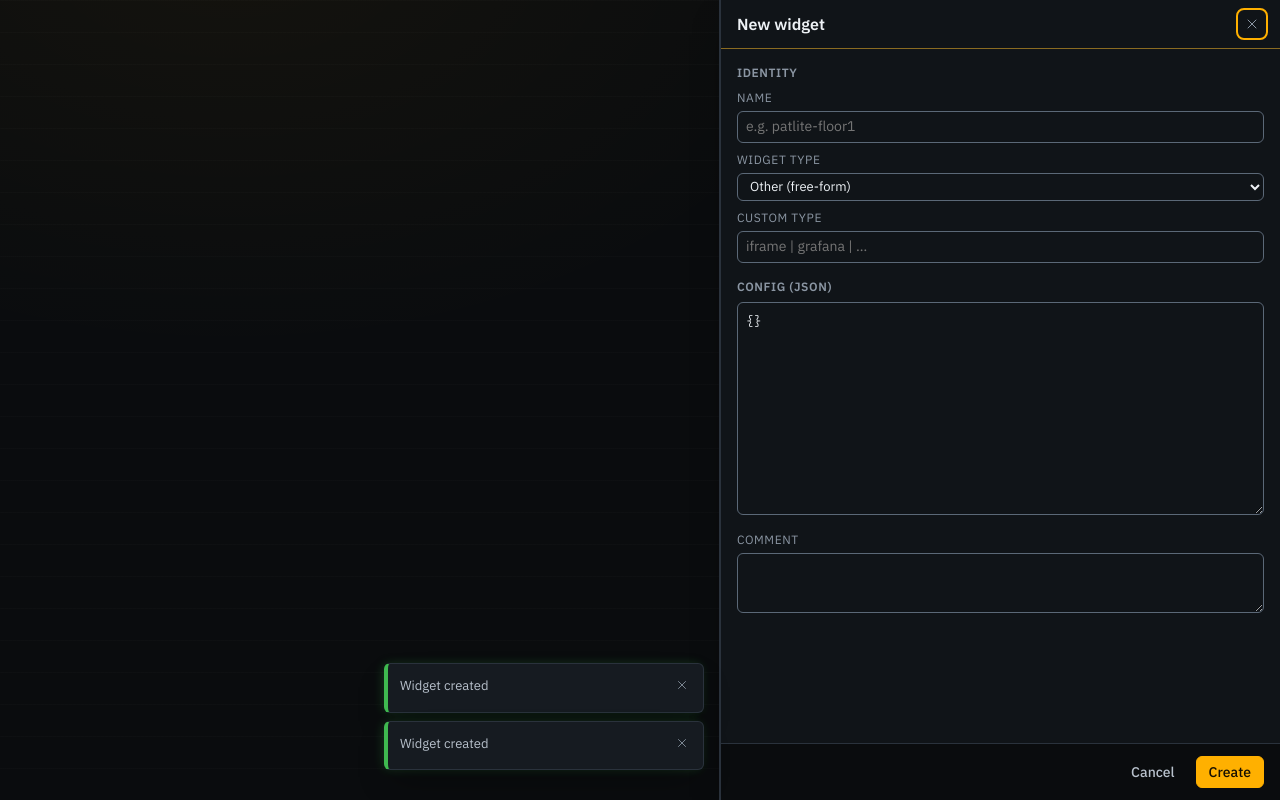
it: WidgetEditor › blocks submit when JSON config is invalid in Other mode
Type "custom-widget" into the field labelled "Name" at (1000, 127), box [738, 116, 1263, 137]
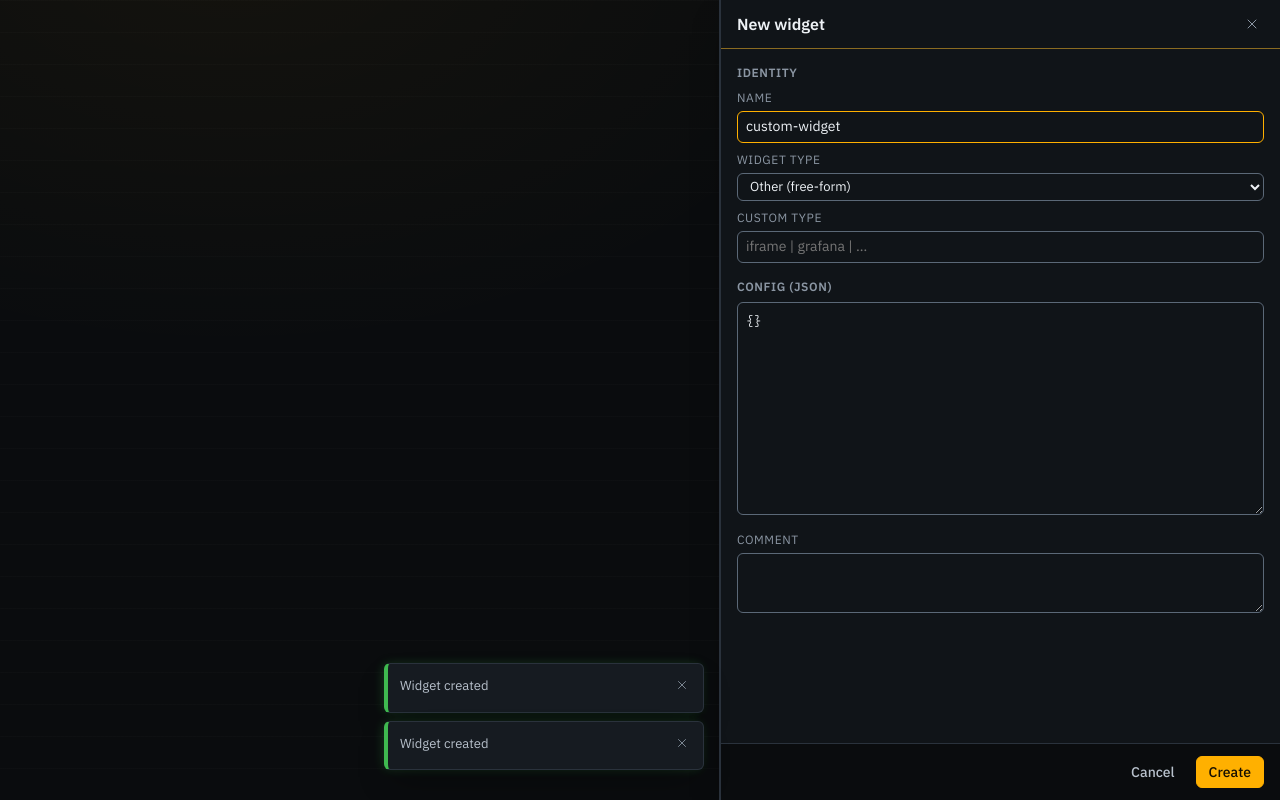
Replace the text in the text box named "config_json" with "not valid json" at (1000, 409), box [737, 302, 1264, 515]
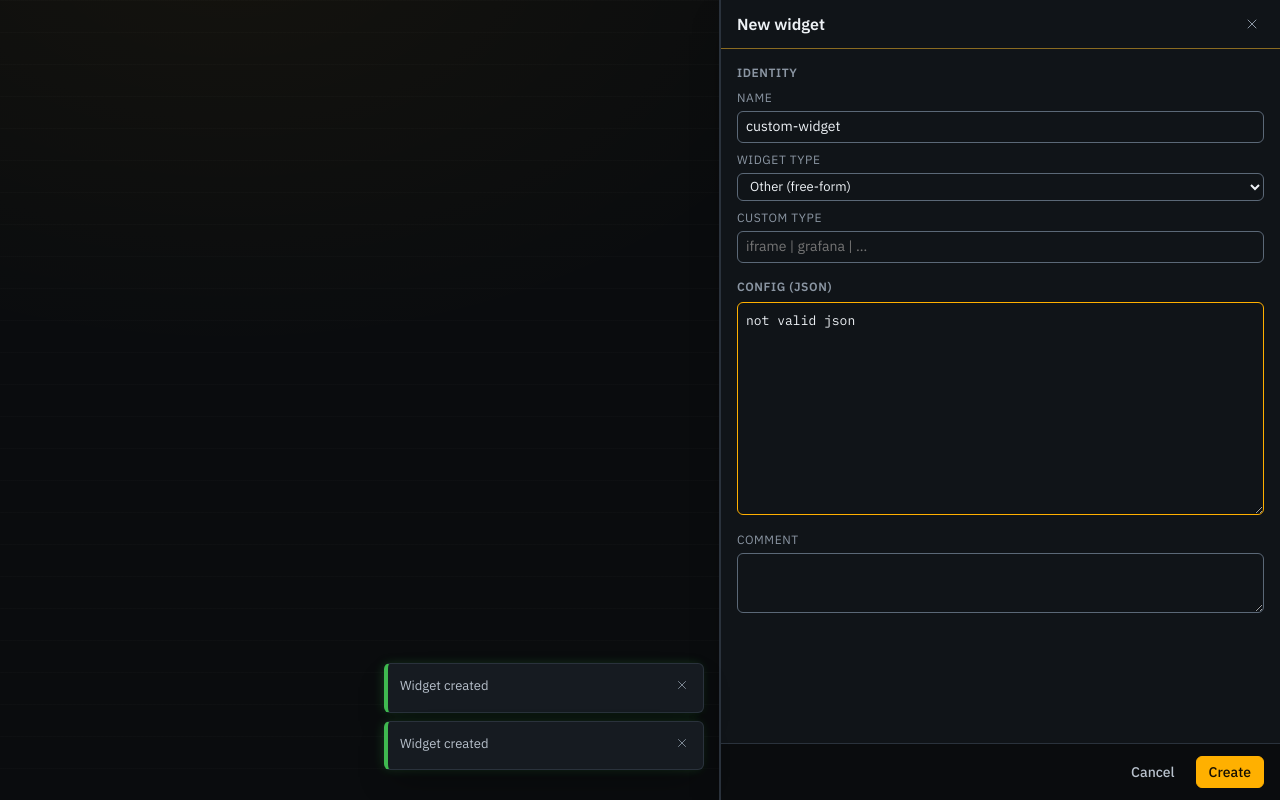
Click the button "Create" at (1230, 772), box [1196, 756, 1264, 788]
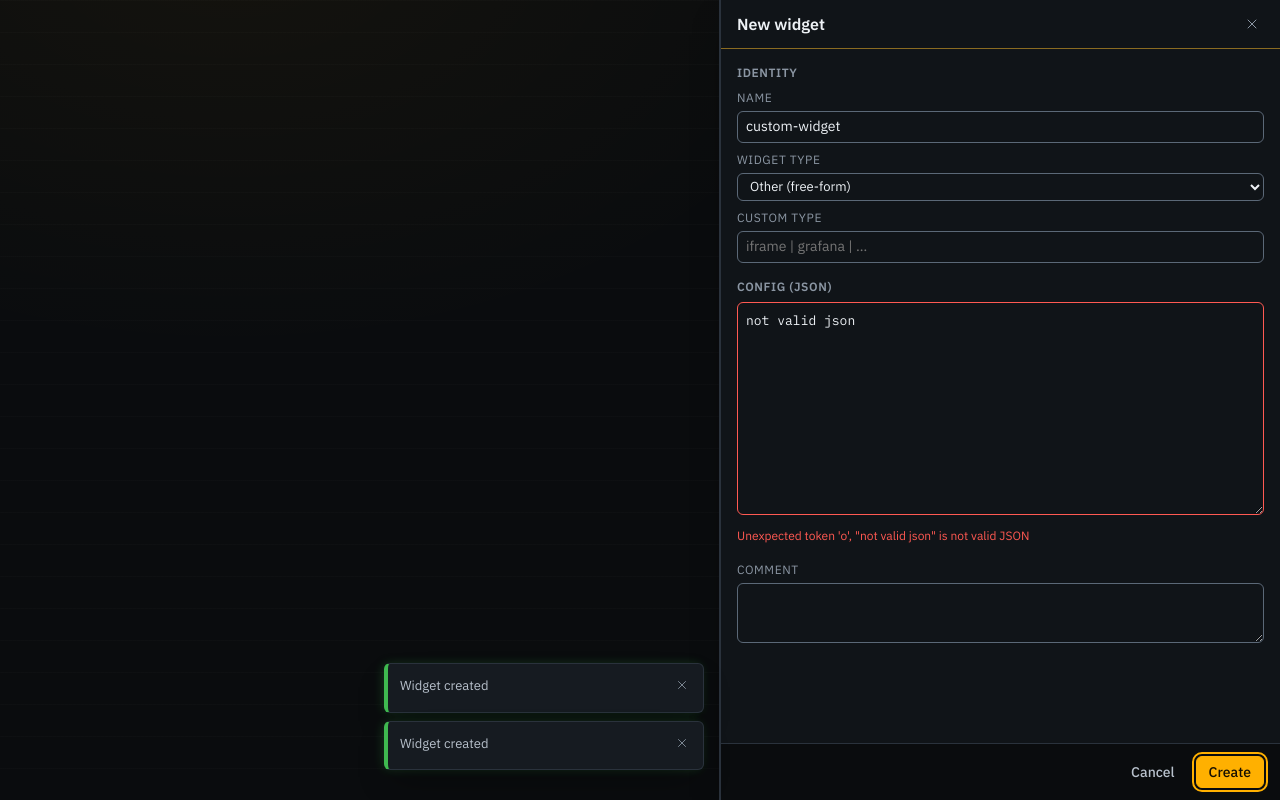
Expected: the text "Unexpected token 'o', \"not valid json\" is not valid JSON" is shown, [737, 528, 1029, 543]
